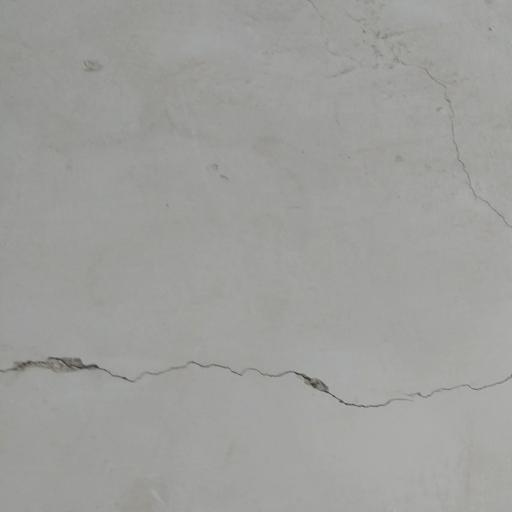major_crack: (3, 343, 512, 416)
minor_crack: (345, 0, 512, 247)
